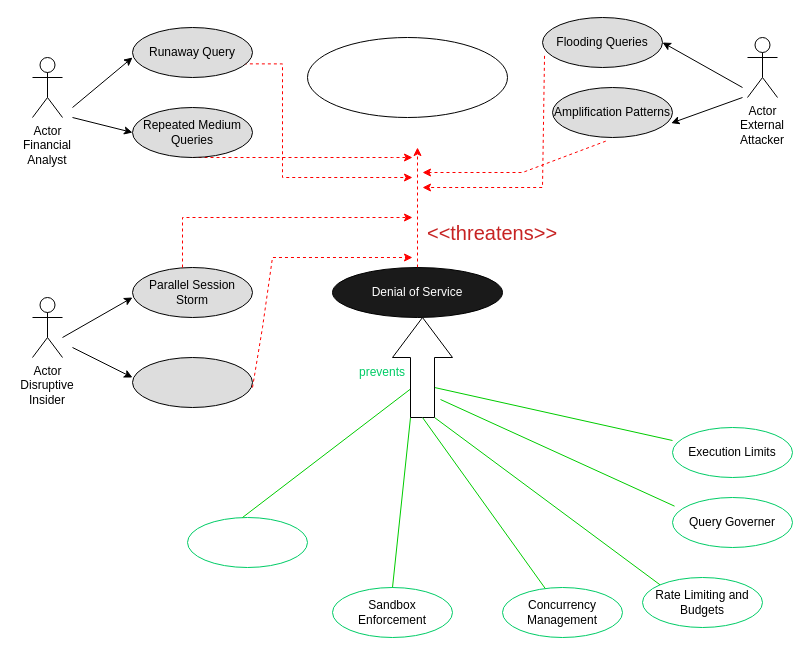
Some shapes in this 810 by 655 pixel diagram are drawn without their labels. The shapes that lost their labels are listed below. From the top down, each one's centre as x and y in pixels, then its label:
At point 407,77: "Run Notebook/Execute Query".
At point 192,382: "Bypass Controls".
At point 247,542: "Monitoring and alerts".
